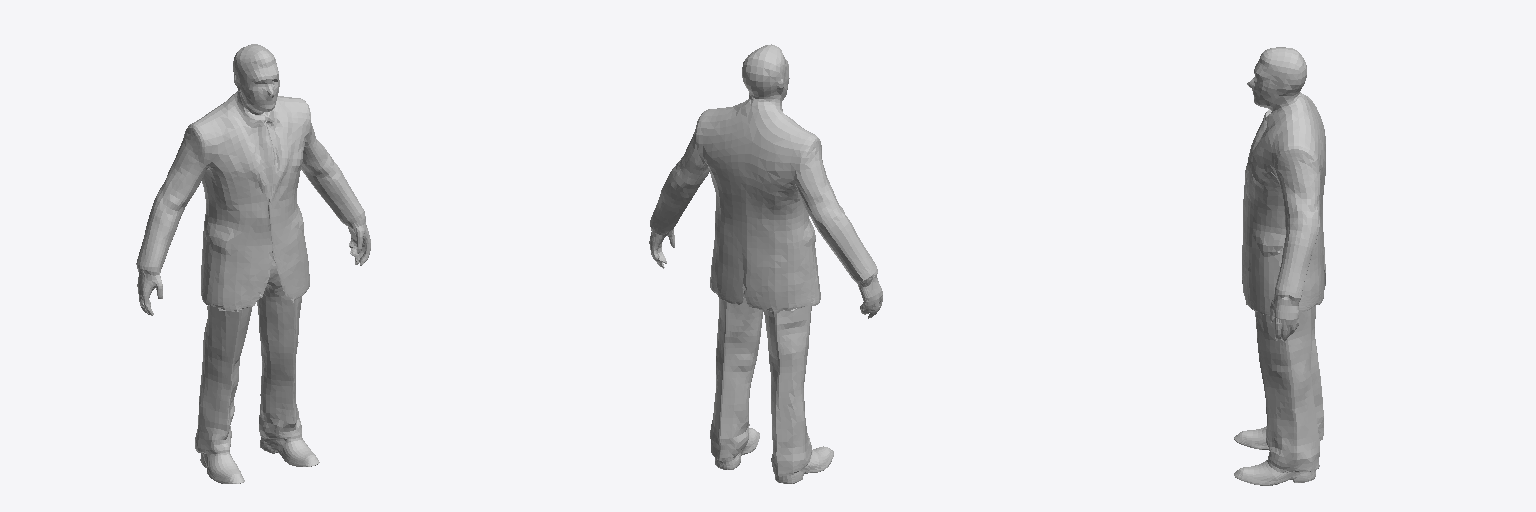
The model's file is main_char.obj.
3 views of the same model, side by side, from view 1: azimuth 30°, elevation 25°; view 2: azimuth 150°, elevation 25°; view 3: azimuth 270°, elevation 25° (orthographic).
Parts seen in each view (by area): view 1: Mesh_0; view 2: Mesh_0; view 3: Mesh_0.
Part boxes in pixels (x1,y1,x2,y2): Mesh_0: (136, 44, 370, 483); Mesh_0: (649, 44, 882, 483); Mesh_0: (1234, 47, 1325, 485).
Size of the model in its own units: 1.15 by 2 by 0.405.